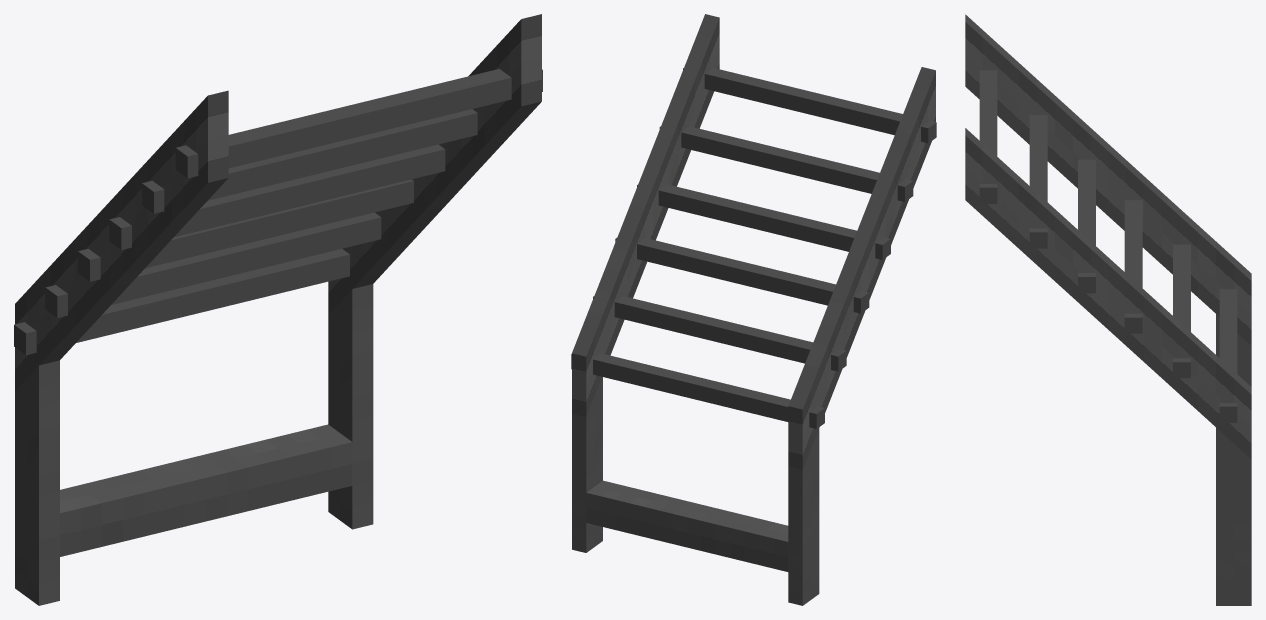
File: conveyor_belt_up_base.gltf
The picture shows the model from 3 angles, left to right: view 1: azimuth 30°, elevation 25°; view 2: azimuth 150°, elevation 25°; view 3: azimuth 270°, elevation 25°; orthographic projection. The views are drawn at different scales.
Parts seen in each view (by area): view 1: support5, Shape3, Shape6, Shape10, support4, support2, Shape20, Shape17, Shape19, Shape16, Shape18; view 2: Shape3, Shape6, support5, Shape20, Shape18, Shape16, Shape19, Shape10, Shape17, support4, support2; view 3: Shape6, Shape3, support2, Shape18, Shape16, Shape10, Shape20, Shape19, Shape17, support4.
Part boxes in pixels (x1=…): support5: x1=60, y1=424, x2=352, y2=556; Shape3: x1=15, y1=90, x2=228, y2=390; Shape6: x1=328, y1=14, x2=541, y2=314; Shape10: x1=175, y1=69, x2=542, y2=178; support4: x1=15, y1=360, x2=59, y2=605; support2: x1=328, y1=284, x2=373, y2=529; Shape20: x1=14, y1=249, x2=349, y2=355; Shape17: x1=109, y1=144, x2=445, y2=249; Shape19: x1=45, y1=212, x2=381, y2=317; Shape16: x1=142, y1=109, x2=477, y2=213; Shape18: x1=78, y1=179, x2=413, y2=281; Shape3: x1=788, y1=67, x2=935, y2=469; Shape6: x1=572, y1=14, x2=719, y2=416; support5: x1=586, y1=480, x2=788, y2=571; Shape20: x1=571, y1=353, x2=824, y2=428; Shape18: x1=615, y1=238, x2=869, y2=313; Shape16: x1=659, y1=126, x2=913, y2=201; Shape19: x1=593, y1=296, x2=846, y2=371; Shape10: x1=683, y1=68, x2=936, y2=143; Shape17: x1=637, y1=184, x2=890, y2=259; support4: x1=788, y1=428, x2=819, y2=605; support2: x1=572, y1=377, x2=602, y2=552; Shape6: x1=965, y1=128, x2=1251, y2=459; Shape3: x1=965, y1=14, x2=1251, y2=345; support2: x1=1216, y1=428, x2=1251, y2=605; Shape18: x1=1124, y1=200, x2=1142, y2=333; Shape16: x1=1029, y1=115, x2=1047, y2=248; Shape10: x1=979, y1=70, x2=997, y2=203; Shape20: x1=1219, y1=289, x2=1237, y2=422; Shape19: x1=1173, y1=244, x2=1190, y2=378; Shape17: x1=1078, y1=159, x2=1095, y2=293; support4: x1=1216, y1=314, x2=1251, y2=386.
Bounding box in the file's own units: 1.06 × 1.81 × 1.
